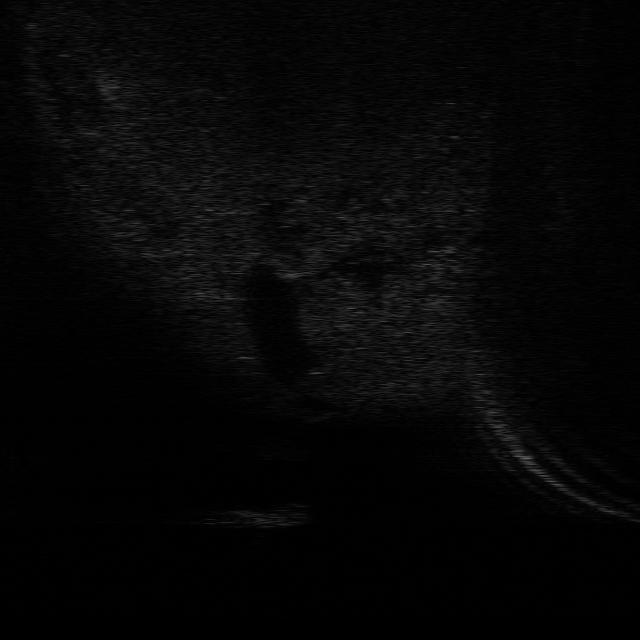cube: (225, 504, 311, 530)
